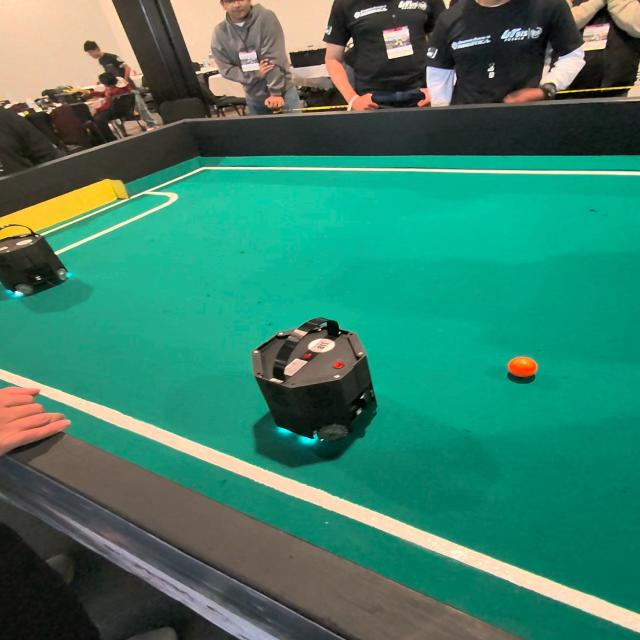Robot: (249, 307, 388, 461), (0, 222, 87, 311)
pelota: (507, 357, 539, 381)
